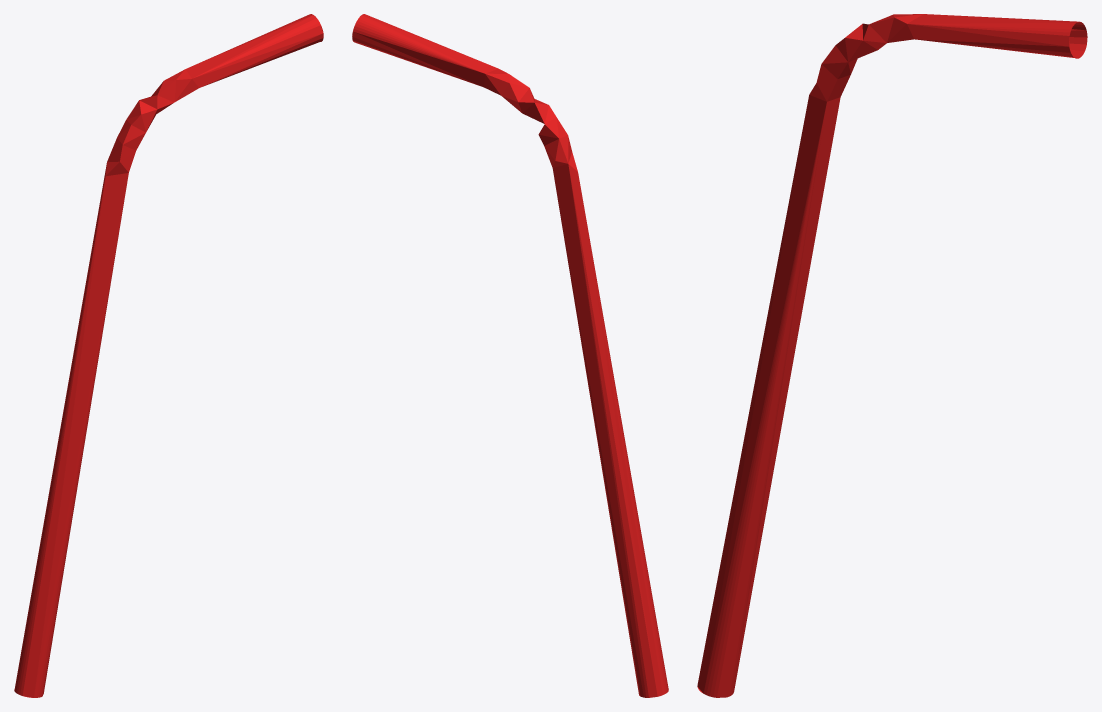
Rendered from straw.fbx.
3 views of the same model, side by side, from view 1: azimuth 30°, elevation 25°; view 2: azimuth 150°, elevation 25°; view 3: azimuth 330°, elevation 25° (orthographic). The views are drawn at different scales.
Parts seen in each view (by area): view 1: straw; view 2: straw; view 3: straw.
Part boxes in pixels (left/top/right/bottom): straw: left=14, top=14, right=323, bottom=697; straw: left=352, top=14, right=668, bottom=697; straw: left=697, top=14, right=1087, bottom=697.
Bounding box in the file's own units: 13.36 × 25.48 × 1.36.
